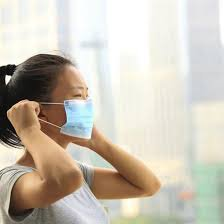mask: (1, 47, 102, 155)
